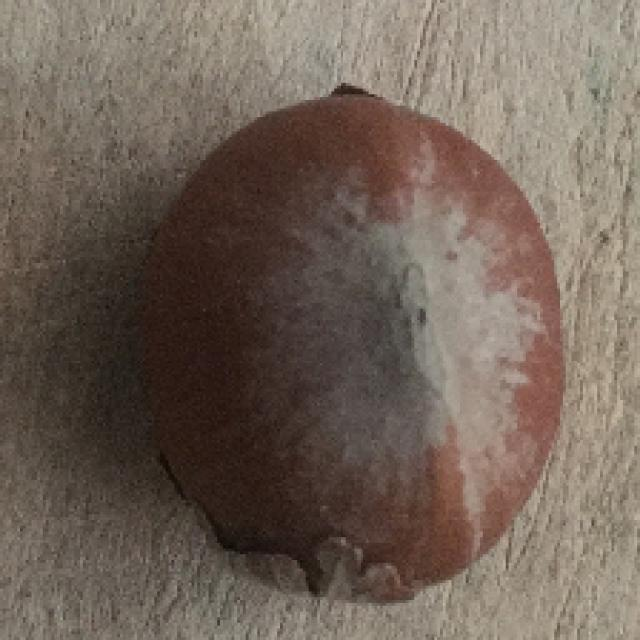QualityHazelnut: (130, 91, 566, 602)
